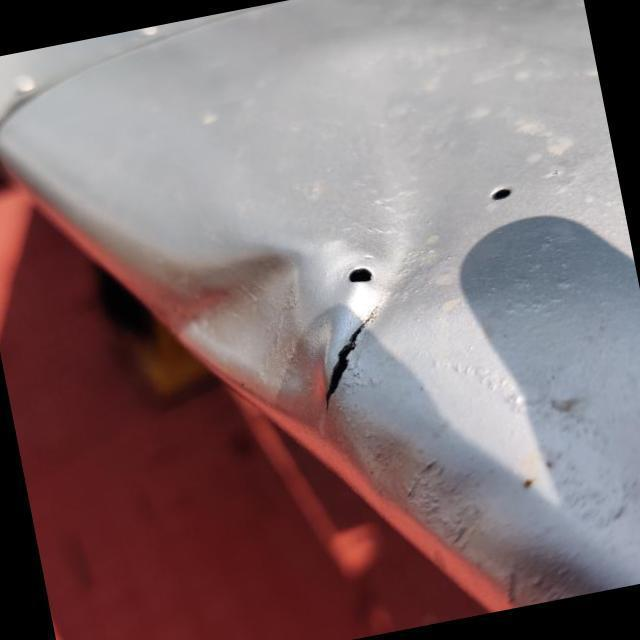Dent: (112, 190, 356, 472)
Rupture: (284, 290, 421, 436)
